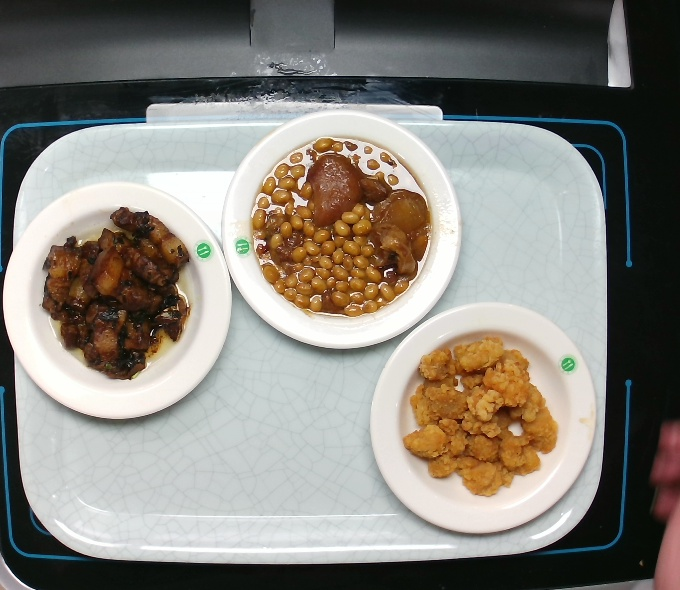wcq-GanCaiRou: (34, 204, 195, 384)
wcq-HuangDouZhuJiao: (244, 130, 436, 319)
wcq-JiMiHua: (394, 330, 563, 500)
